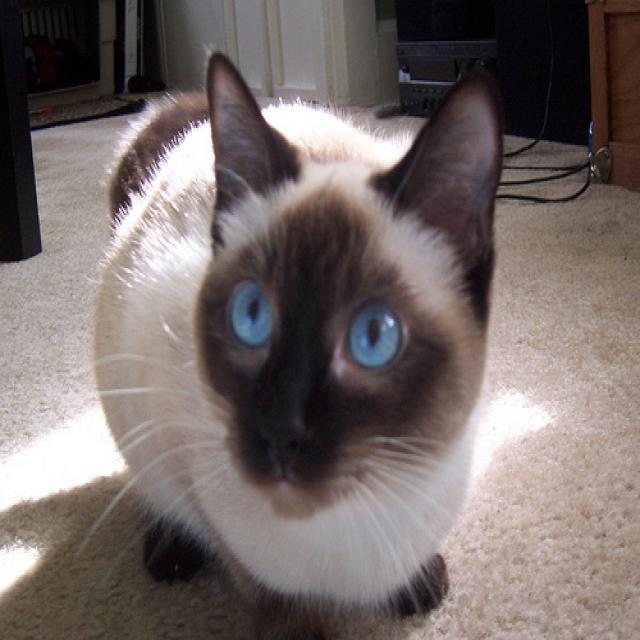Siamese: (191, 48, 502, 519)
